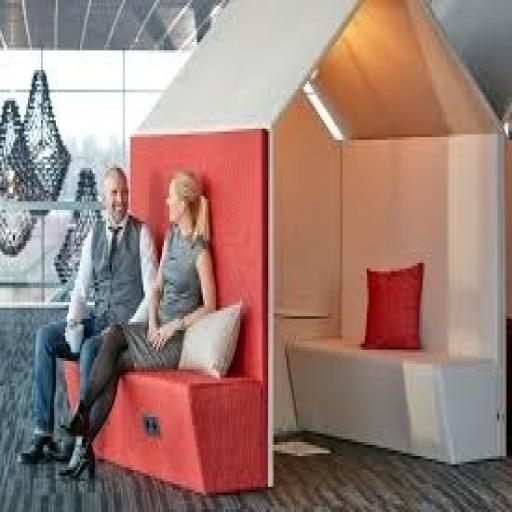sitting: (17, 157, 218, 481)
